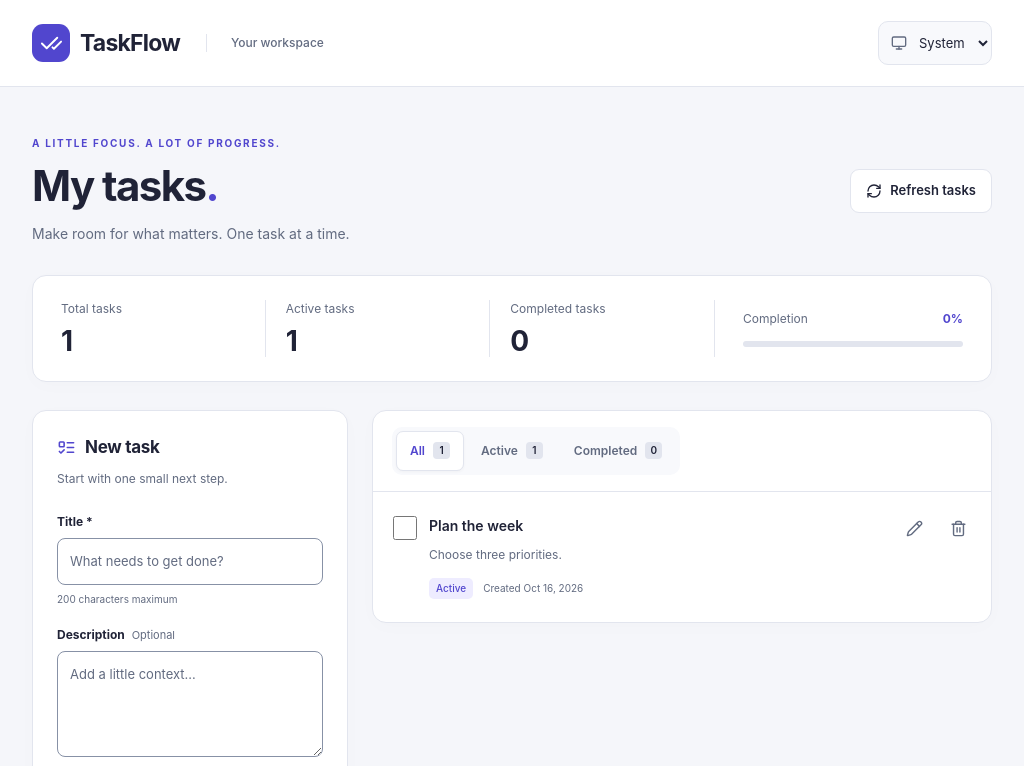
Test case: Task workspace › preserves edits after failed save
This screenshot has width=1024, height=766.
Click the button named "Edit Plan the week" at (914, 529), box [892,507,936,551]
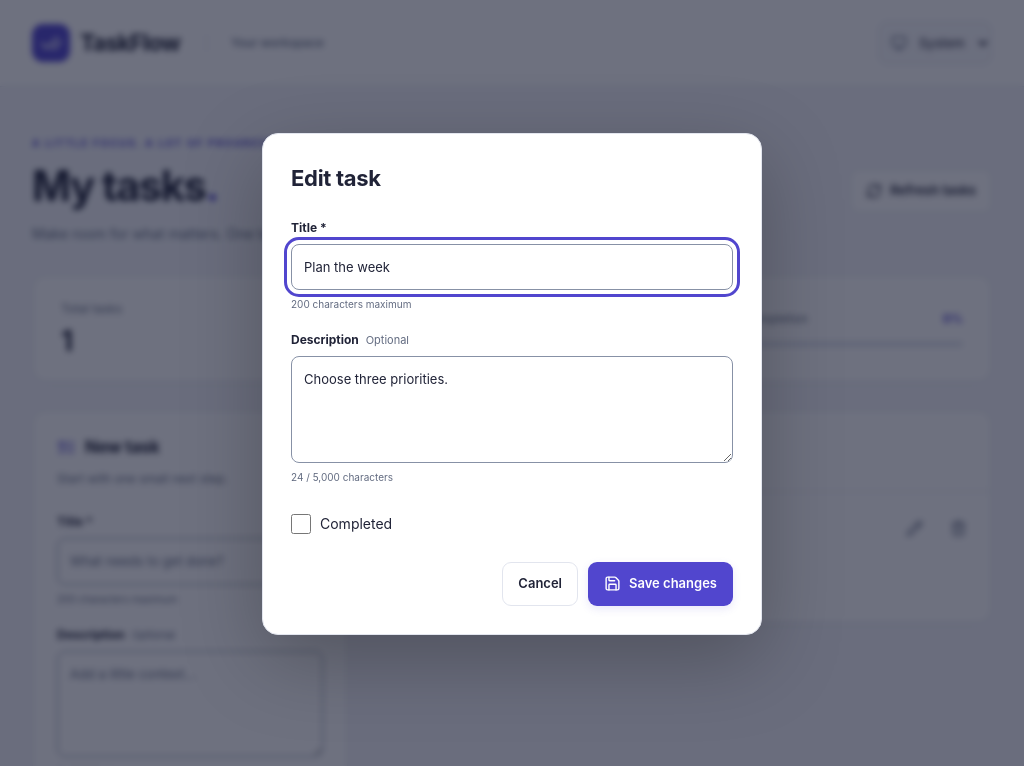
Replace the text in the field labelled "Title *" with "Keep edits" at (512, 267), box [291,244,733,290]
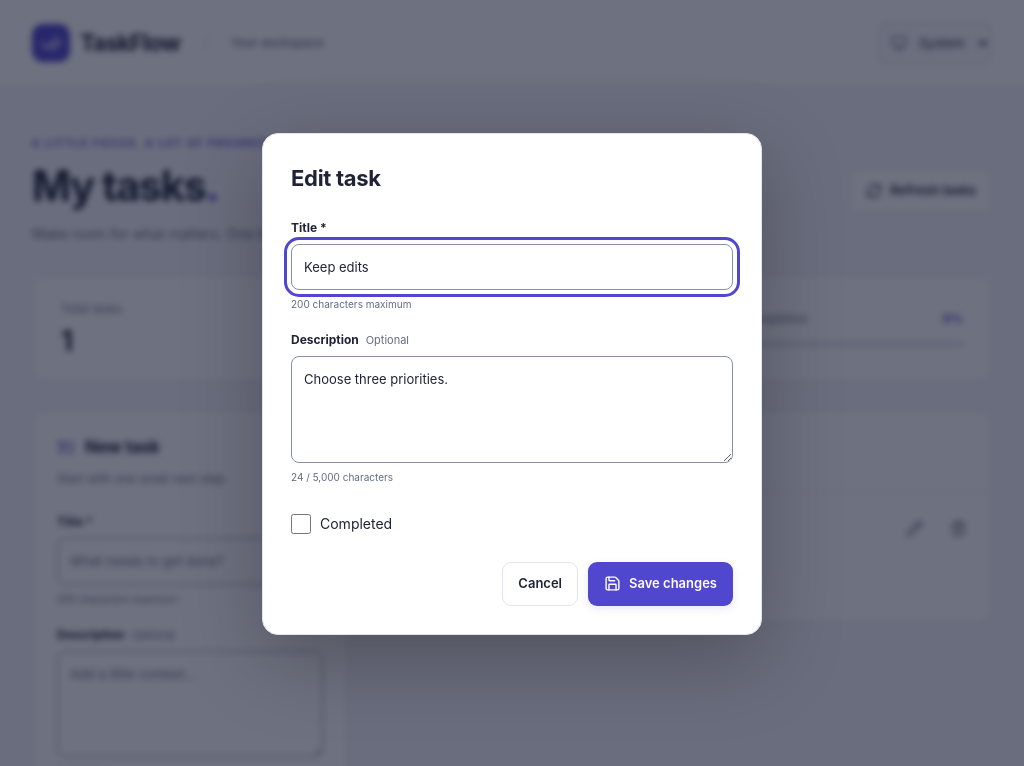
Click the button "Save changes" at (660, 584), box [588,562,733,606]
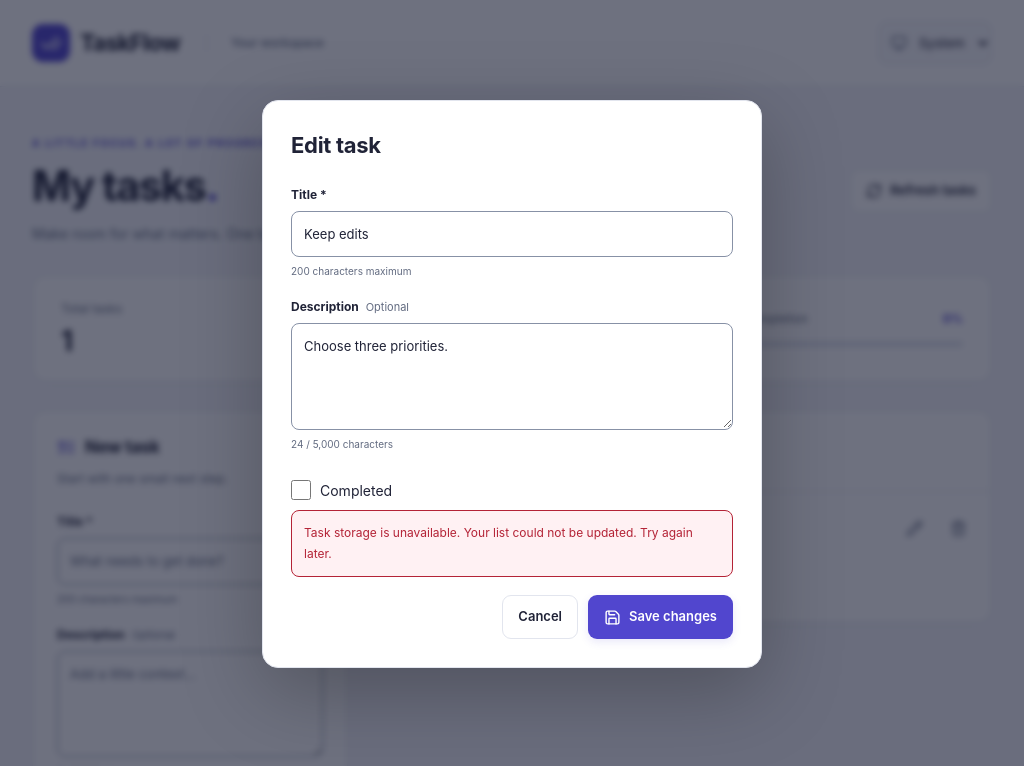
Expected: the heading "Plan the week" is shown, [429,517,523,534]
Expected: the message shows "storage", [304,526,693,561]
